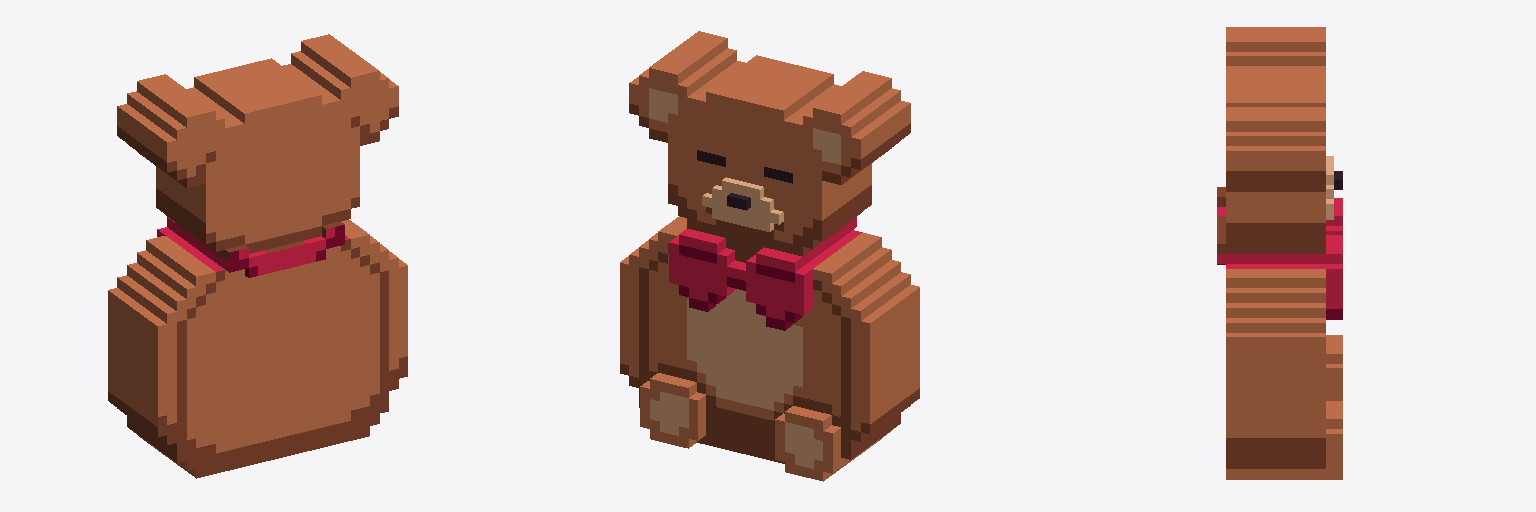
File: TeddyBear.obj
3 views of the same model, side by side, from view 1: azimuth 30°, elevation 25°; view 2: azimuth 150°, elevation 25°; view 3: azimuth 270°, elevation 25° (orthographic).
Bounding box in the file's own units: 26 × 36 × 11.25.